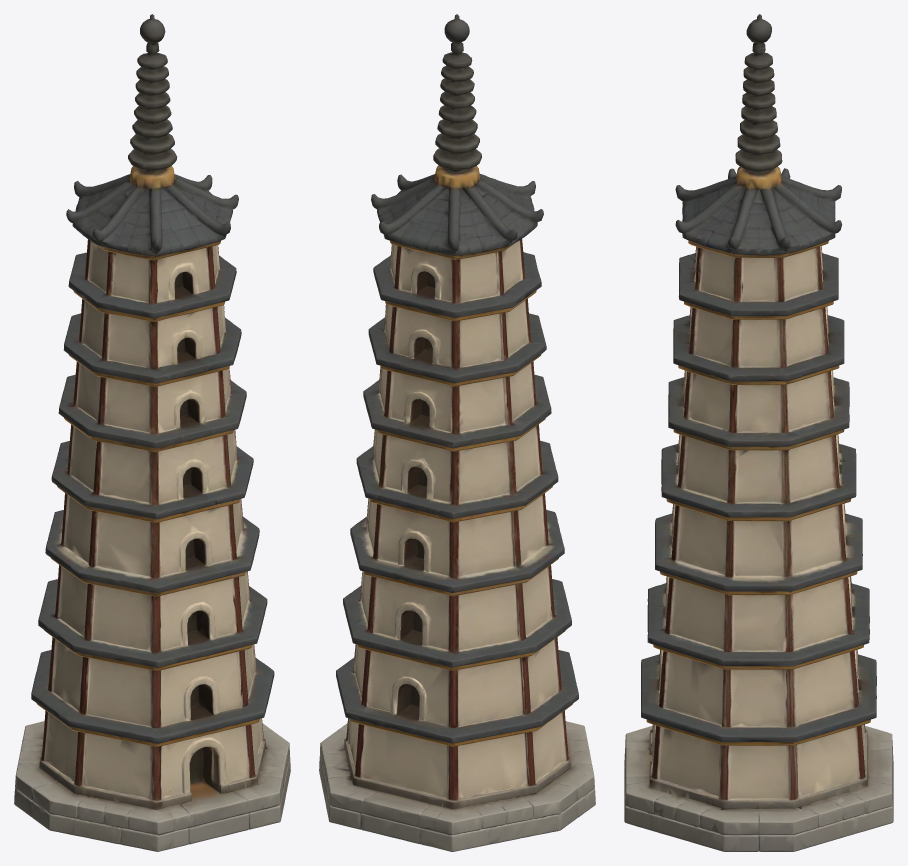
Rendered from baochu.glb.
3 views of the same model, side by side, from view 1: azimuth 30°, elevation 25°; view 2: azimuth 150°, elevation 25°; view 3: azimuth 270°, elevation 25° (orthographic).
Visible parts, largest first — view 1: tripo_node_9126d549-4e74-4df6-b121-e83e36c8f12a; view 2: tripo_node_9126d549-4e74-4df6-b121-e83e36c8f12a; view 3: tripo_node_9126d549-4e74-4df6-b121-e83e36c8f12a.
Boxes of the visible parts, bbox=[...] form: tripo_node_9126d549-4e74-4df6-b121-e83e36c8f12a: bbox=[14, 14, 290, 851]; tripo_node_9126d549-4e74-4df6-b121-e83e36c8f12a: bbox=[319, 14, 595, 851]; tripo_node_9126d549-4e74-4df6-b121-e83e36c8f12a: bbox=[624, 14, 893, 851].
Size of the model in its own units: 0.3208 by 0.9819 by 0.3075.
1 material, 1 textured.
